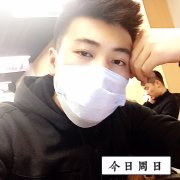face: (144, 82, 156, 99)
face_mask: (58, 17, 128, 129)
